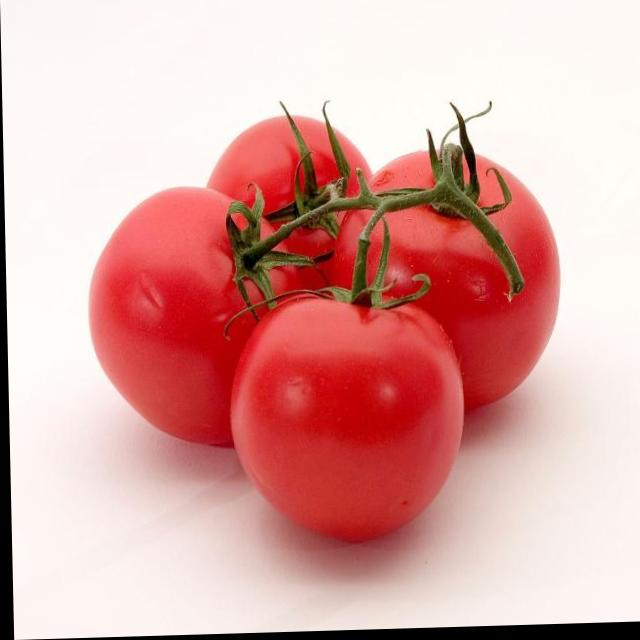kirmizi: (85, 67, 570, 562)
